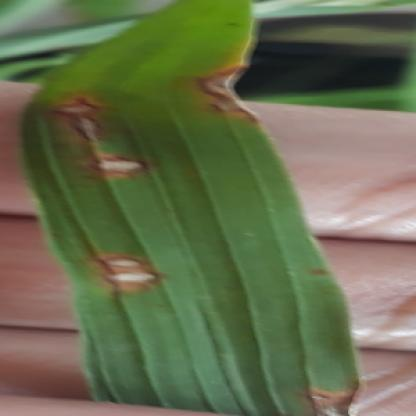Rice blast: (52, 76, 147, 194), (93, 242, 172, 305), (194, 61, 258, 131)
